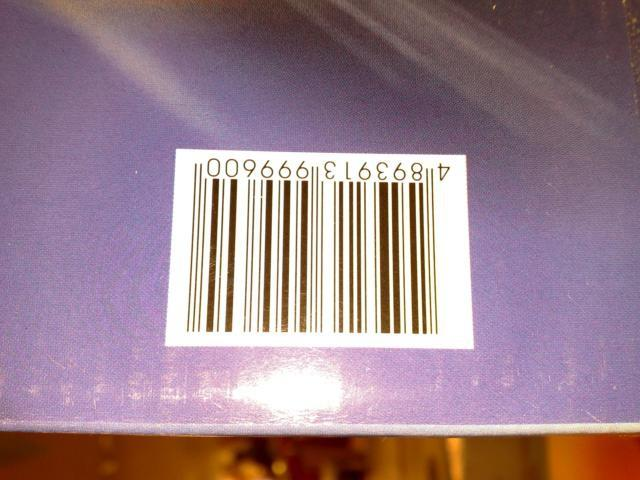Barcode: (162, 148, 479, 350)
